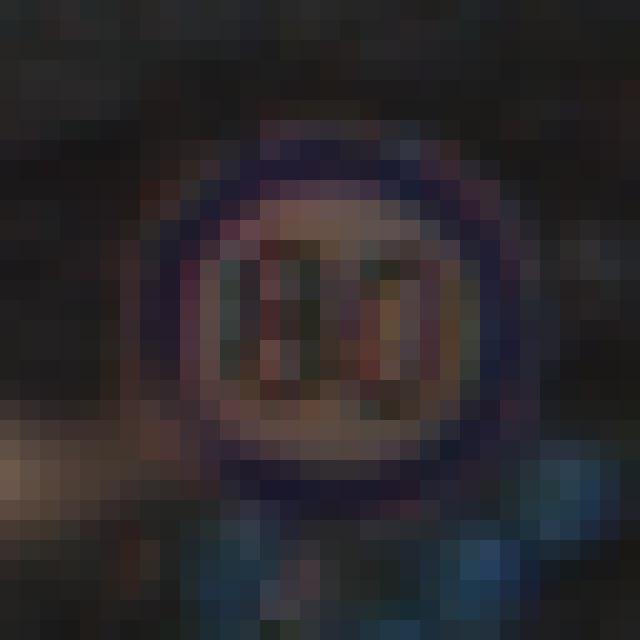SPEED-LIMIT-80: (134, 124, 524, 493)
